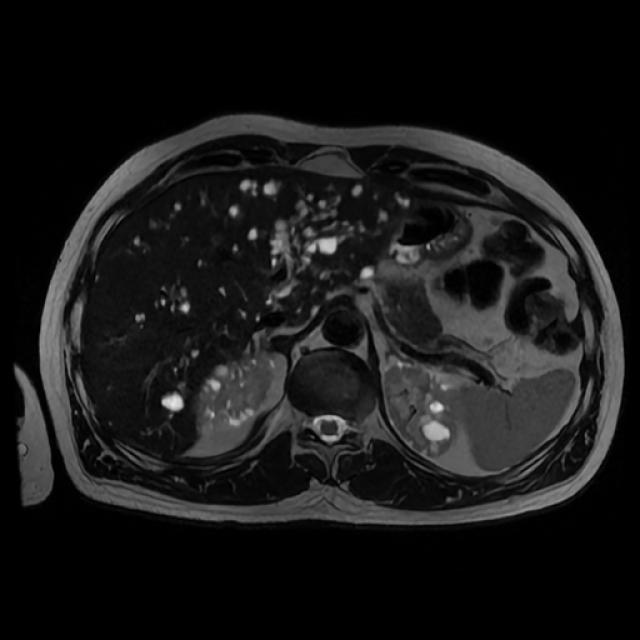sag: (196, 354, 278, 438)
sol: (383, 361, 465, 458)
